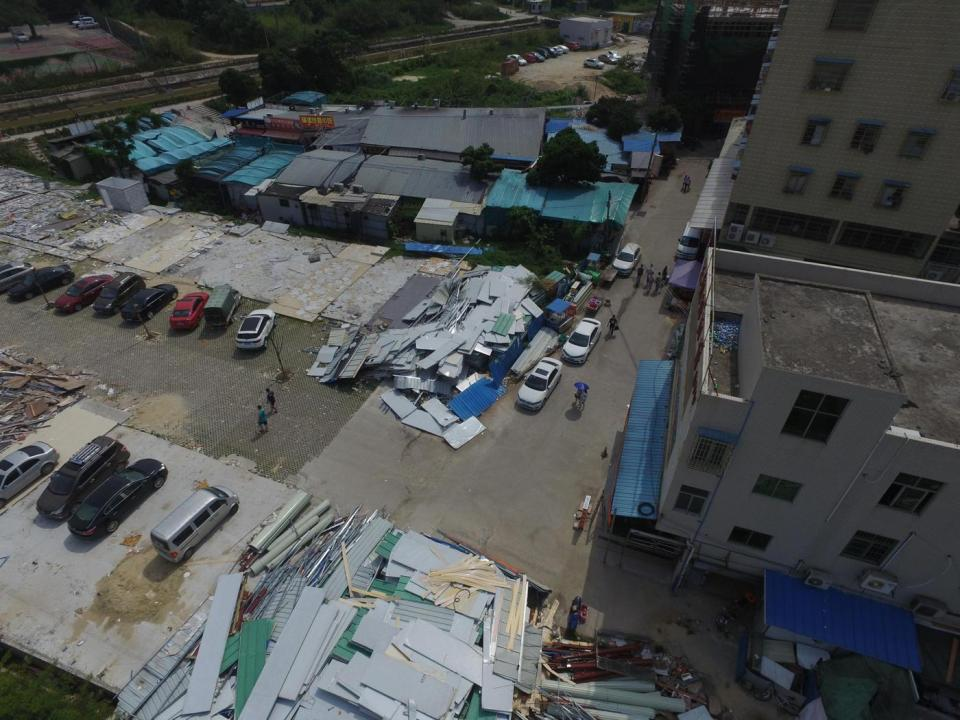car: (65, 450, 166, 542), (1, 441, 61, 505), (54, 274, 117, 316), (8, 263, 74, 303), (516, 356, 564, 410), (91, 271, 146, 317), (119, 282, 178, 324), (561, 317, 601, 364), (236, 308, 277, 351), (169, 292, 212, 332), (0, 261, 36, 294), (612, 242, 642, 276), (505, 53, 527, 66), (583, 57, 605, 69), (597, 53, 620, 64), (72, 17, 95, 27), (528, 50, 547, 62), (12, 31, 30, 42), (563, 40, 581, 51), (77, 22, 101, 30), (606, 49, 623, 60), (68, 14, 88, 23), (549, 44, 563, 55), (522, 53, 537, 63), (556, 44, 570, 53)
truck: (203, 284, 242, 326)
van: (34, 429, 133, 522), (151, 475, 238, 567), (677, 219, 700, 262), (541, 44, 561, 58), (534, 46, 552, 59)
